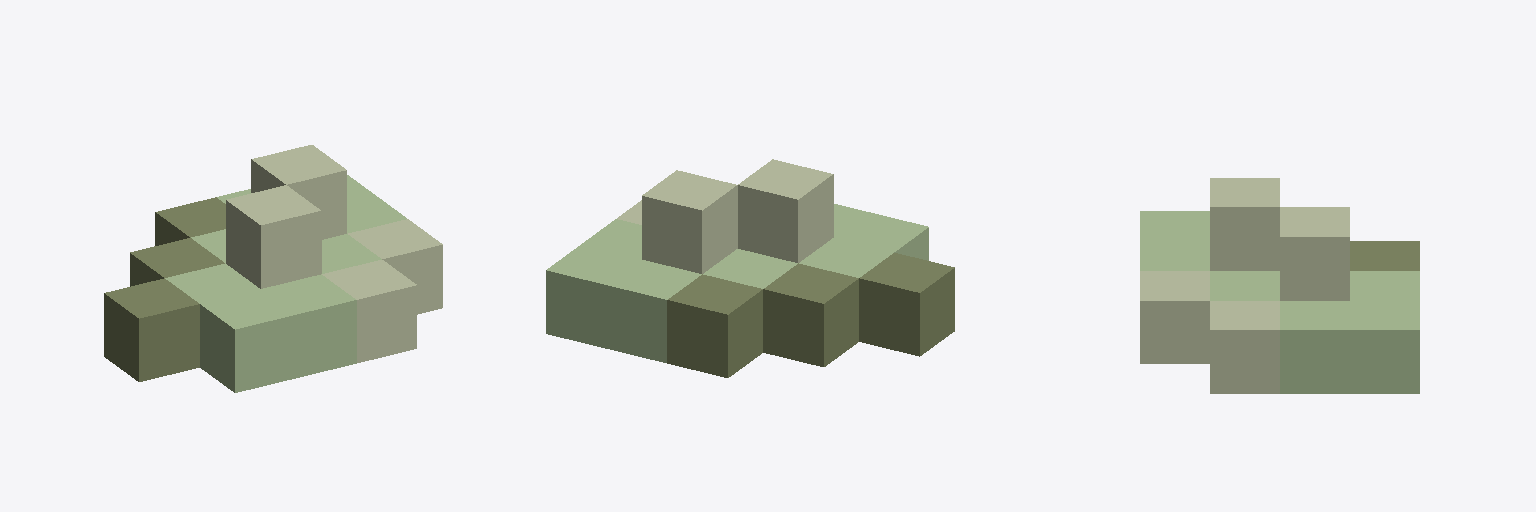
3 views of the same model, side by side, from view 1: azimuth 30°, elevation 25°; view 2: azimuth 150°, elevation 25°; view 3: azimuth 270°, elevation 25° (orthographic).
Parts seen in each view (by area): view 1: object 1; view 2: object 1; view 3: object 1.
Part boxes in pixels (bbox=[...]): object 1: bbox=[104, 145, 442, 392]; object 1: bbox=[546, 159, 954, 377]; object 1: bbox=[1140, 178, 1419, 393].
Bounding box in the file's own units: 0.5 × 0.2 × 0.4.
1 materials, 1 textured.